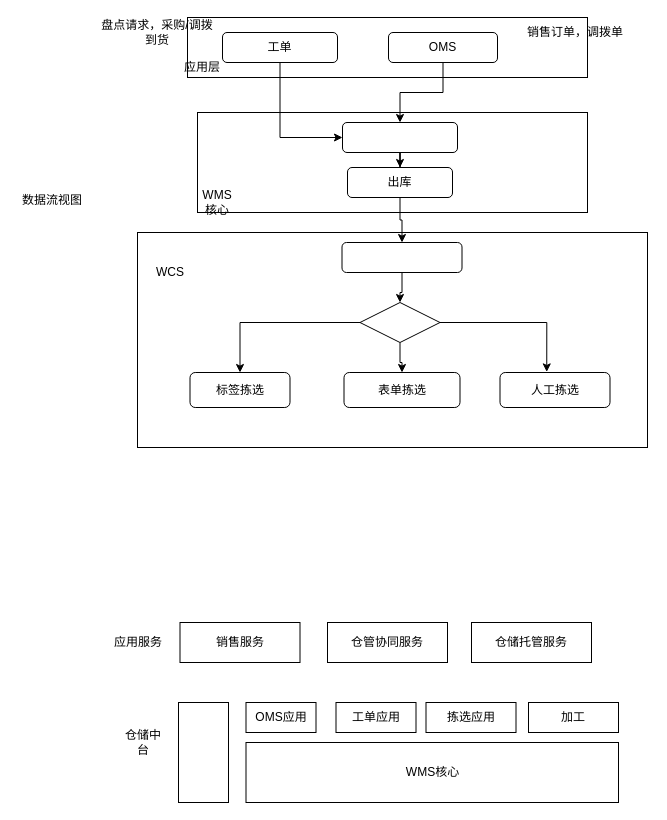
Image size: 667x820. Some labels were removed from this diagram. The centre of each missing label's shape, as x and y in pixels:
基础数据服务: point 203,752
库存-库位管理: point 400,137
波次管理: point 401,257
